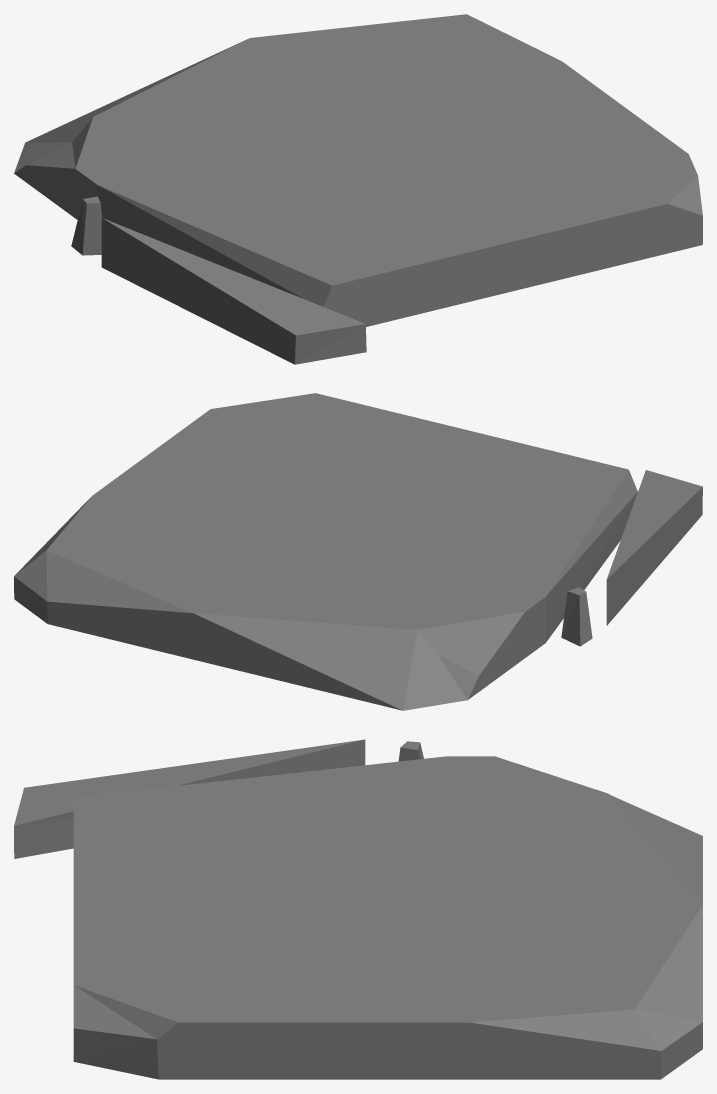
The model's file is Tile_06.FBX.
The picture shows the model from 3 angles, top to bottom: view 1: azimuth 30°, elevation 25°; view 2: azimuth 150°, elevation 25°; view 3: azimuth 270°, elevation 25°; orthographic projection. The views are drawn at different scales.
Visible parts, largest first — view 1: Tile_06; view 2: Tile_06; view 3: Tile_06.
Boxes of the visible parts, x1,y1,x2,y2 form: Tile_06: (14,14,702,364); Tile_06: (14,393,702,710); Tile_06: (14,739,702,1079).
Bounding box in the file's own units: 1.6 × 0.15 × 1.64.
